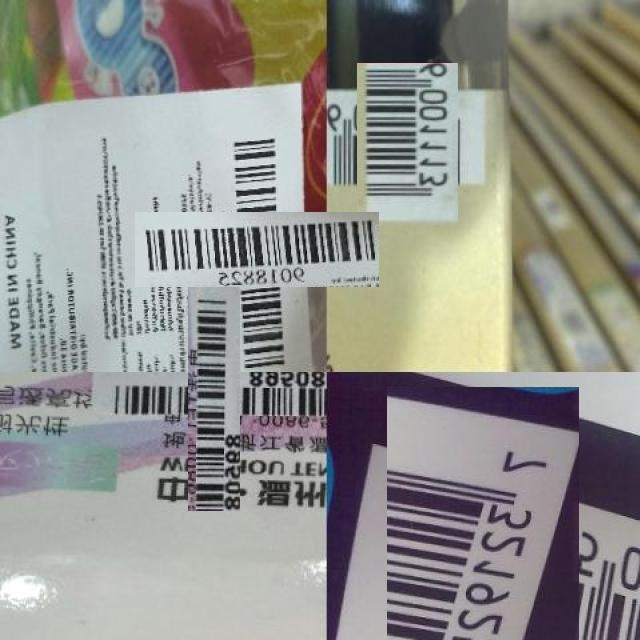Barcode: (357, 417, 610, 640), (176, 170, 336, 330), (145, 329, 284, 468), (342, 78, 474, 210)
